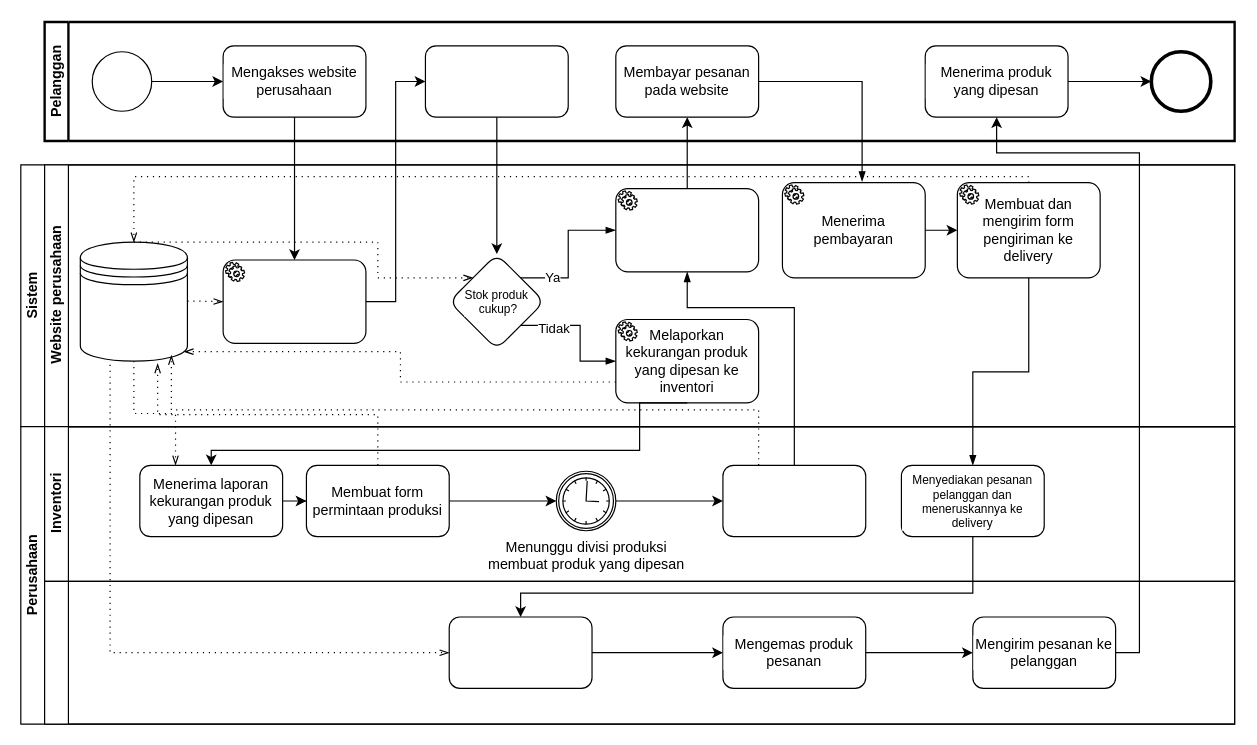
Some shapes in this 1257 by 745 pixel diagram are drawn without their labels. Each missing label, with the box of its shape:
DB PT. Star Cosmos: (79, 241, 187, 361)
Delivery: (43, 580, 1235, 724)
Memesan produk: (424, 45, 568, 117)
Menampilkan daftar produk: (222, 259, 366, 343)
Menerima dan update data produk pesanan yang telah dibuat pada website: (722, 464, 866, 537)
Menerima form pengiriman dan pesanan yang akan dikirim: (448, 616, 592, 688)
Mengirim nota pembayaran: (615, 187, 759, 272)
Mulai: (91, 51, 152, 111)
Selesai: (1150, 51, 1211, 111)
